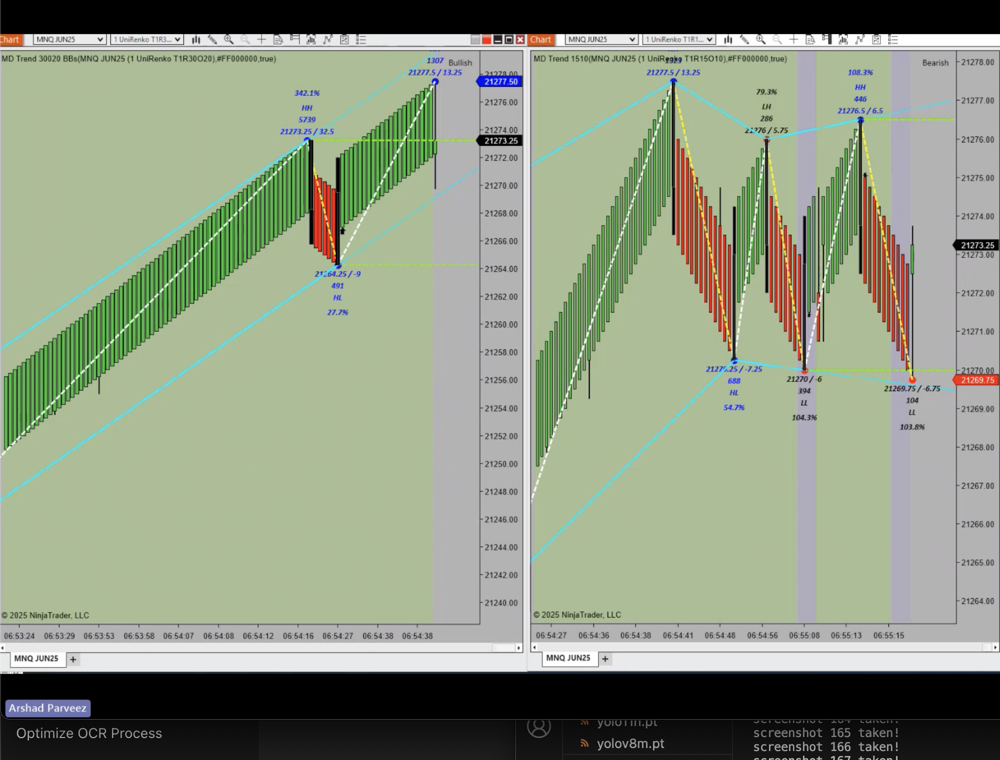HH: (293, 103, 323, 117), (848, 78, 870, 95)
HL: (722, 384, 748, 404), (326, 290, 350, 307)
LH: (756, 99, 780, 116)
LL: (902, 402, 924, 424), (794, 395, 813, 411)
